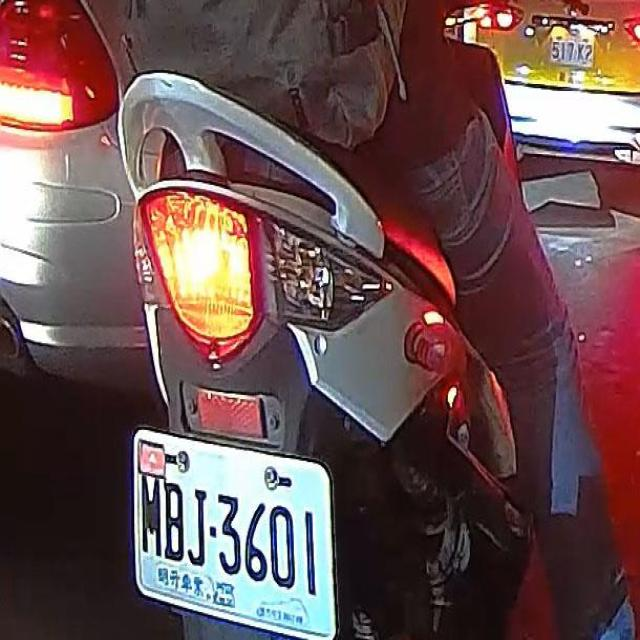license-plate: (130, 425, 341, 639)
